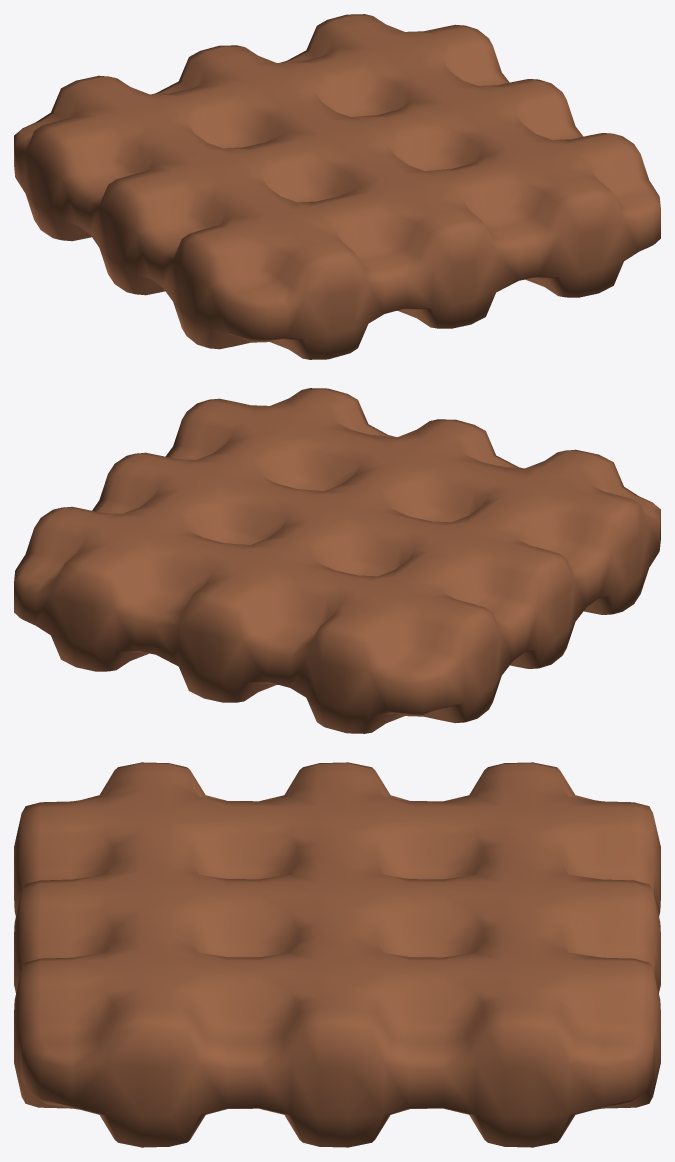
Rendered from candy_assets41.fbx.
The picture shows the model from 3 angles, top to bottom: view 1: azimuth 30°, elevation 25°; view 2: azimuth 150°, elevation 25°; view 3: azimuth 270°, elevation 25°; orthographic projection. The views are drawn at different scales.
Visible parts, largest first — view 1: candy_assets41; view 2: candy_assets41; view 3: candy_assets41.
Boxes of the visible parts, x1,y1,x2,y2 form: candy_assets41: [14, 14, 660, 359]; candy_assets41: [14, 388, 660, 733]; candy_assets41: [14, 762, 660, 1147].
Size of the model in its own units: 558 by 124 by 558.
Materials: 1 (1 with a texture image).
